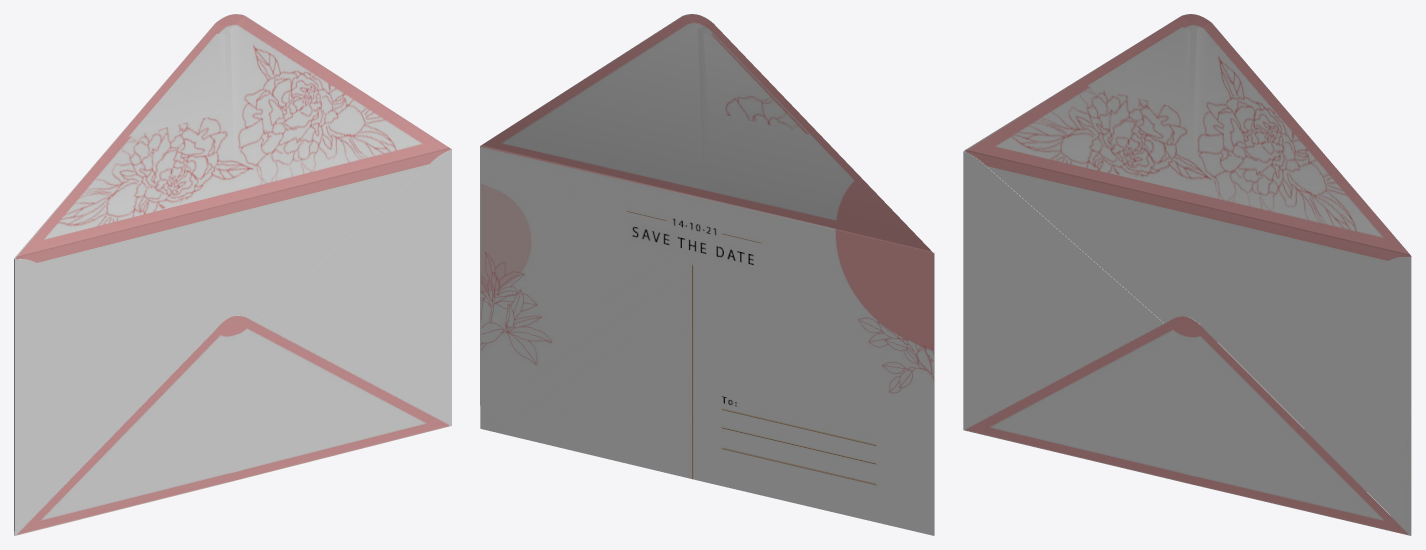
Rendered from evelope.fbx.
3 renders of one model, left to right at view 1: azimuth 30°, elevation 25°; view 2: azimuth 150°, elevation 25°; view 3: azimuth 330°, elevation 25°, orthographic. The views are drawn at different scales.
Parts seen in each view (by area): view 1: EnvelopeFREE; view 2: EnvelopeFREE; view 3: EnvelopeFREE.
Boxes of the visible parts, bbox=[...] form: EnvelopeFREE: bbox=[14, 14, 451, 535]; EnvelopeFREE: bbox=[480, 14, 934, 535]; EnvelopeFREE: bbox=[963, 14, 1411, 535].
Bounding box in the file's own units: 20.01 × 20 × 0.665.
Materials: 1 (1 with a texture image).
